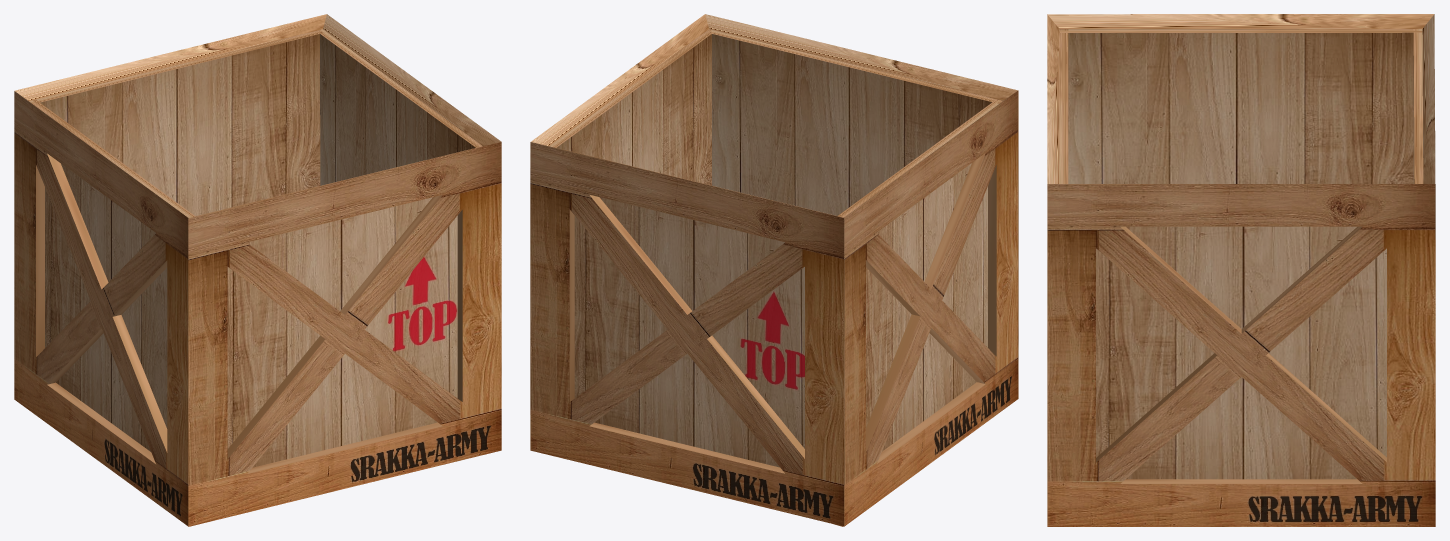
File: caisseBois01Opened2.fbx
3 renders of one model, left to right at view 1: azimuth 30°, elevation 25°; view 2: azimuth 150°, elevation 25°; view 3: azimuth 270°, elevation 25°, orthographic. The views are drawn at different scales.
Parts seen in each view (by area): view 1: BoxP2, BoxP4, BoxP3, BoxP1; view 2: BoxP3, BoxP4, BoxP2, BoxP1; view 3: BoxP1, BoxP4, BoxP2, BoxP3.
Part boxes in pixels (x1,y1,x2,y2): BoxP2: (188, 142, 501, 526); BoxP4: (14, 91, 195, 525); BoxP3: (14, 14, 326, 216); BoxP1: (320, 14, 501, 185); BoxP3: (530, 142, 843, 526); BoxP4: (837, 91, 1017, 526); BoxP2: (705, 14, 1018, 398); BoxP1: (530, 14, 711, 450); BoxP1: (1047, 184, 1435, 526); BoxP4: (1048, 14, 1433, 183); BoxP2: (1047, 14, 1068, 526); BoxP3: (1413, 14, 1435, 238).
Bounding box in the file's own units: 93.29 × 87.96 × 90.06.
